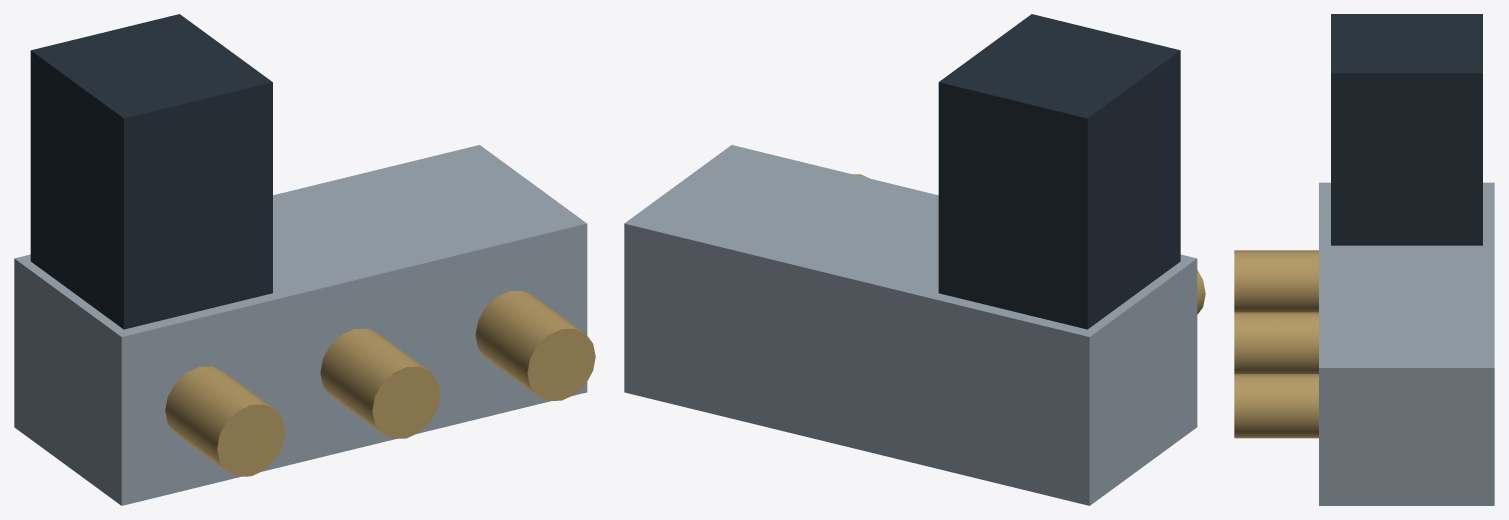
3 renders of one model, left to right at view 1: azimuth 30°, elevation 25°; view 2: azimuth 150°, elevation 25°; view 3: azimuth 270°, elevation 25°, orthographic. The views are drawn at different scales.
Visible parts, largest first — view 1: 电磁阀; view 2: 电磁阀; view 3: 电磁阀.
Boxes of the visible parts, left/top/right/bottom form: 电磁阀: left=14, top=14, right=595, bottom=505; 电磁阀: left=624, top=14, right=1205, bottom=505; 电磁阀: left=1234, top=14, right=1494, bottom=505.
Size of the model in its own units: 0.75 by 0.585 by 0.445.
